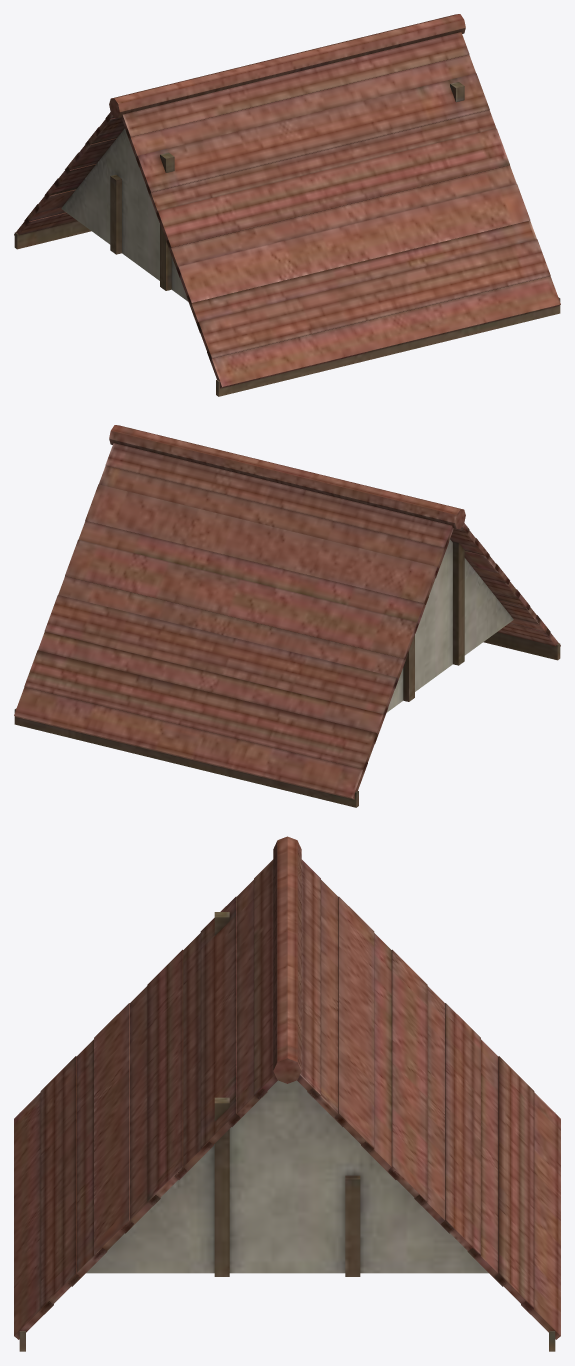
Rendered from telhado.glb.
3 views of the same model, one above another, from view 1: azimuth 30°, elevation 25°; view 2: azimuth 150°, elevation 25°; view 3: azimuth 270°, elevation 25° (orthographic). The views are drawn at different scales.
Visible parts, largest first — view 1: telhado; view 2: telhado; view 3: telhado.
Part boxes in pixels (box(x1,y1,x2,y2)): telhado: box(14, 14, 560, 396); telhado: box(14, 425, 560, 807); telhado: box(14, 836, 560, 1351).
Bounding box in the file's own units: 4.82 × 2.99 × 5.02.
Materials: 1 (1 with a texture image).
